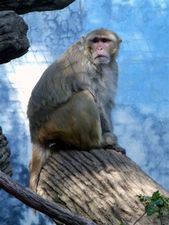monkey: (6, 15, 151, 186)
